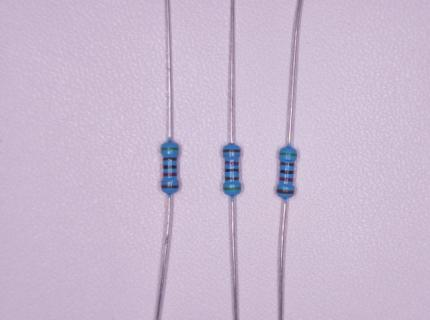Black band: (163, 165, 177, 169), (280, 170, 294, 174), (225, 169, 239, 172)
Brown band: (277, 188, 294, 194), (161, 184, 179, 189), (223, 149, 241, 153), (225, 176, 239, 181), (163, 157, 177, 161), (281, 162, 294, 166)
Green band: (279, 152, 297, 157), (161, 147, 179, 151), (223, 187, 242, 190)
Red band: (279, 176, 293, 182), (224, 161, 239, 165), (163, 172, 177, 176)
